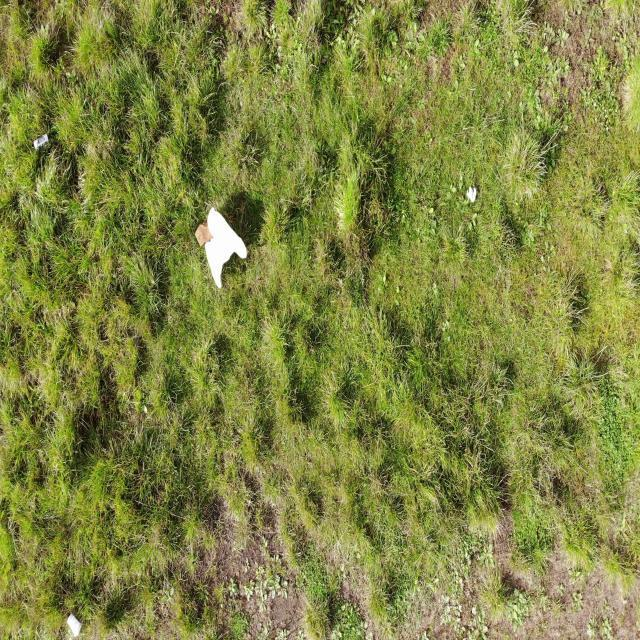rubbish: (204, 207, 248, 287), (66, 614, 82, 640), (34, 132, 50, 149), (464, 187, 476, 201)
